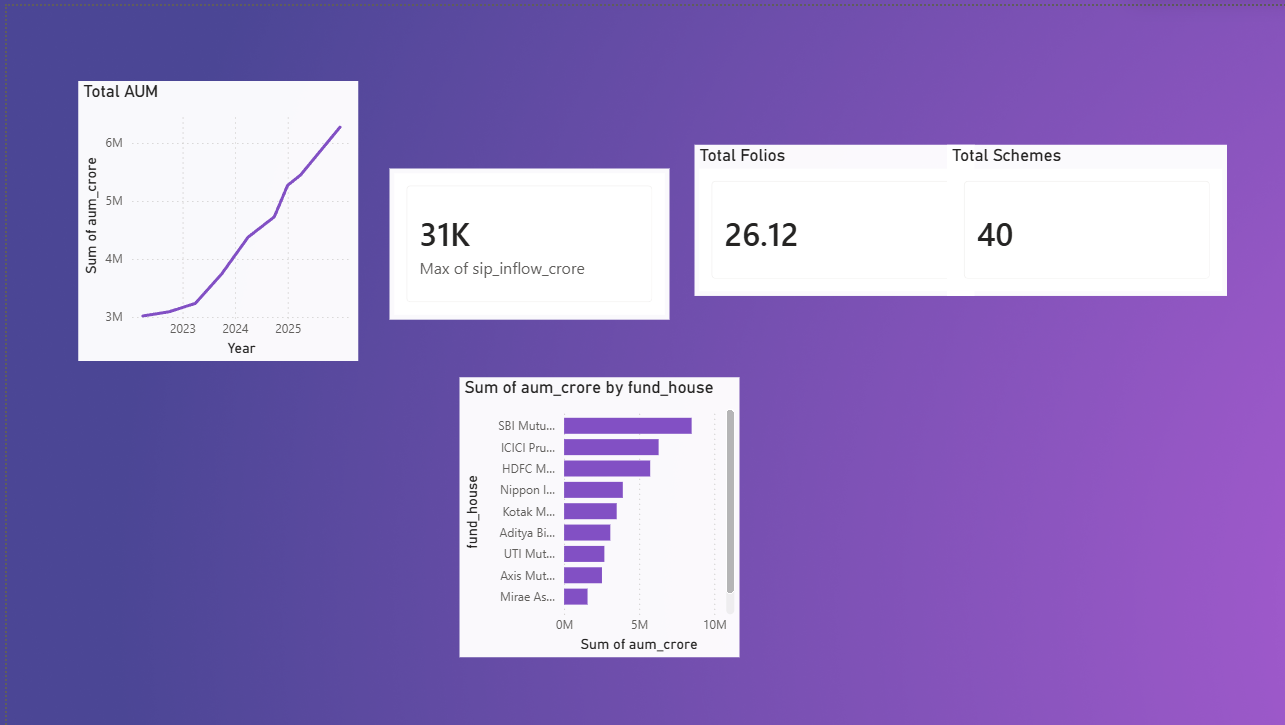

What the dashboard file says about the page in this screenshot:
{"tool":"powerbi","page":{"name":"Industry Overview","canvas":[1280,720],"ordinal":0},"visuals":[{"type":"lineChart","title":"Total AUM","fields":{"Y":["Sum(03_aum_by_fund_house.aum_crore)"],"Category":["03_aum_by_fund_house.date.Variation.Date Hierarchy.Year","03_aum_by_fund_house.date.Variation.Date Hierarchy.Quarter","03_aum_by_fund_house.date.Variation.Date Hierarchy.Month","03_aum_by_fund_house.date.Variation.Date Hierarchy.Day"]},"box":[71.2,75,280,280],"z":0},{"type":"cardVisual","title":"Total Folios","fields":{"Data":["Max(06_industry_folio_count.total_folios_crore)"]},"box":[687.5,138.8,280,151.2],"z":1000},{"type":"cardVisual","title":"Total Schemes","fields":{"Data":["Count(01_fund_master.amfi_code)"]},"box":[940,138.8,280,151.2],"z":2000},{"type":"cardVisual","fields":{"Data":["Max(04_monthly_sip_inflows.sip_inflow_crore)"]},"box":[382.5,162.5,280,151.2],"z":3000},{"type":"clusteredBarChart","fields":{"Category":["03_aum_by_fund_house.fund_house"],"Y":["Sum(03_aum_by_fund_house.aum_crore)"]},"box":[452.5,371.2,280,280],"z":4000}]}

Visuals, with their boxes in screenshot pixels (x1, y1, x2, y2), scaled from the page's 1280x720 canvas onto the 1285x725 screenshot:
"Total AUM" lineChart: 71/76/353/357
"Total Folios" cardVisual: 690/140/971/292
"Total Schemes" cardVisual: 944/140/1225/292
cardVisual - Max(04_monthly_sip_inflows.sip_inflow_crore): 384/164/665/316
clusteredBarChart - 03_aum_by_fund_house.fund_house x Sum(03_aum_by_fund_house.aum_crore): 454/374/735/656
